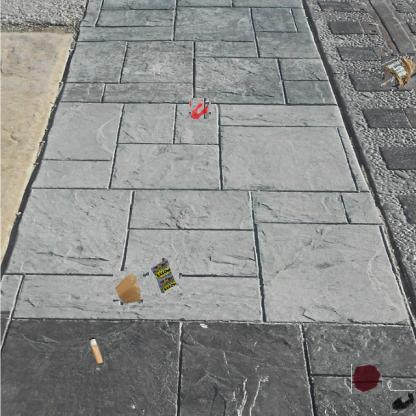dirty: (381, 54, 416, 88), (148, 259, 180, 292), (113, 271, 143, 305), (391, 390, 416, 414), (86, 335, 104, 365)
liquid: (351, 364, 382, 394), (190, 98, 210, 118)
